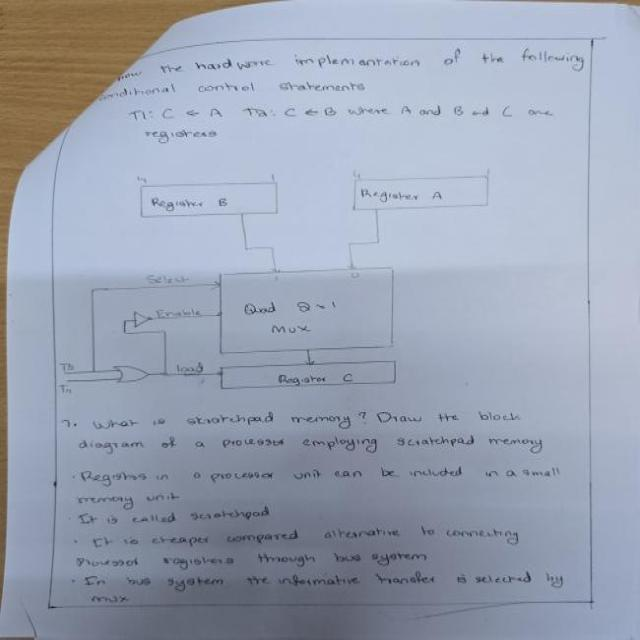Figure Detection - v3 Dataset Version2: (57, 164, 496, 400)
